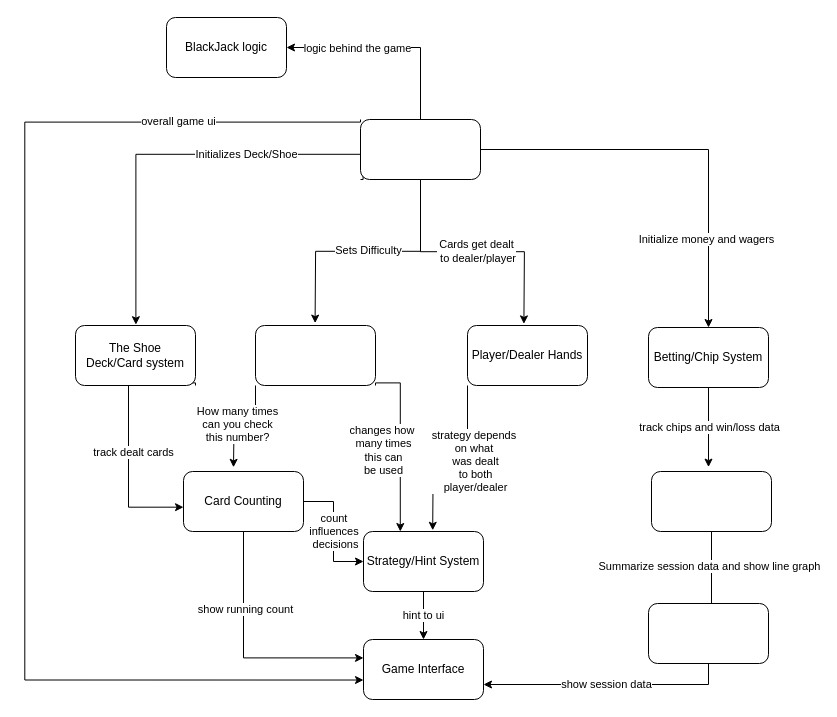
Image size: 837x717. Some labels were removed from this diagram. Here are the shapes that lost their labels. From the top down, the centre of each, then its label:
point (420, 149): BlackJack Game
point (315, 355): Difficultly Manager
point (711, 501): Game Stats
point (708, 633): End of Run screen
